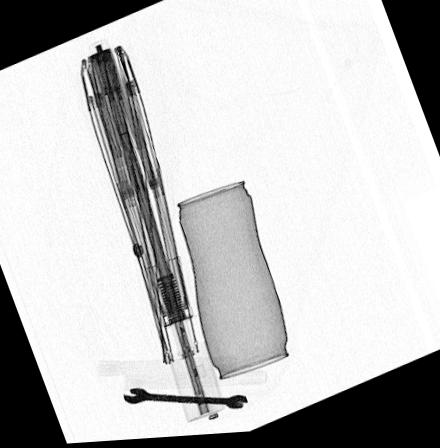Wrench: (123, 389, 248, 414)
